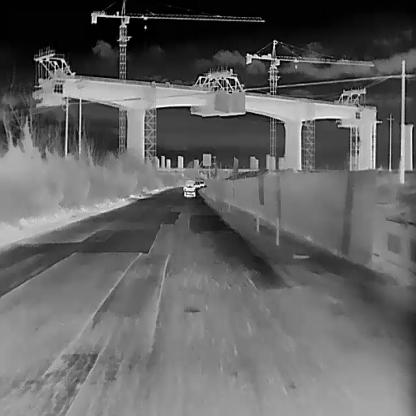car: (183, 180, 195, 196), (194, 180, 199, 187), (200, 180, 204, 185)
